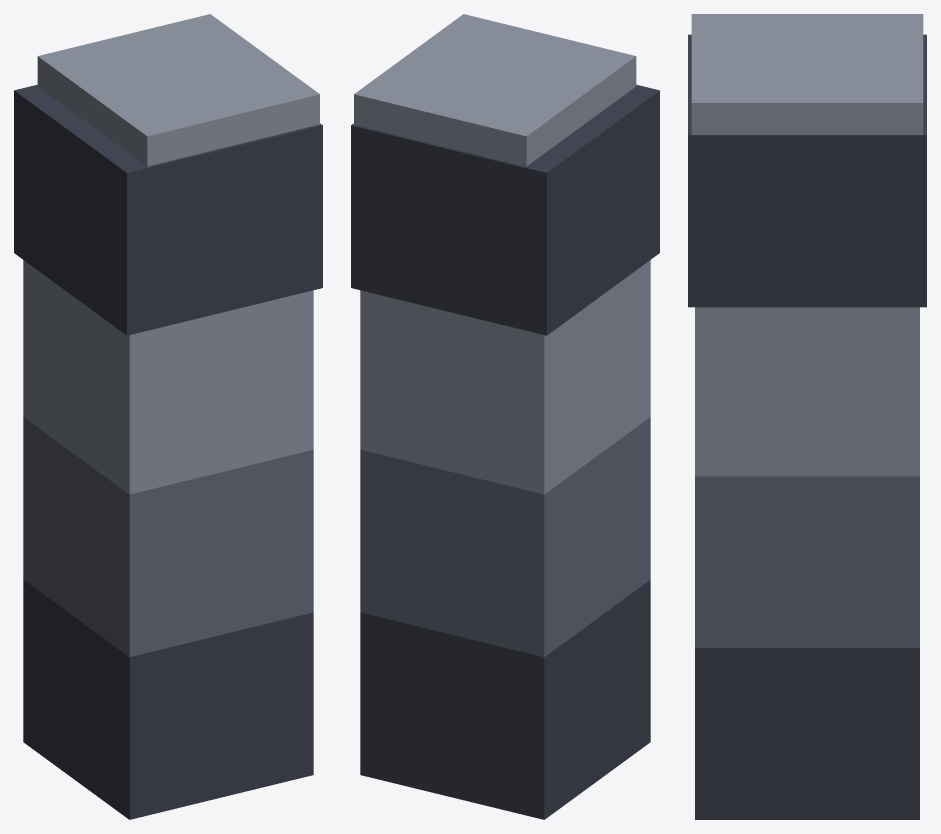
File: TW_STONE_POST_B_LOD0.glb
3 renders of one model, left to right at view 1: azimuth 30°, elevation 25°; view 2: azimuth 150°, elevation 25°; view 3: azimuth 270°, elevation 25°, orthographic. The views are drawn at different scales.
Visible parts, largest first — view 1: TW_STONE_POST_B_LOD0; view 2: TW_STONE_POST_B_LOD0; view 3: TW_STONE_POST_B_LOD0.
Part boxes in pixels (x1,y1,x2,y2): TW_STONE_POST_B_LOD0: (14, 14, 322, 819); TW_STONE_POST_B_LOD0: (351, 14, 659, 819); TW_STONE_POST_B_LOD0: (688, 14, 926, 819).
Bounding box in the file's own units: 0.34 × 1.13 × 0.34.
Materials: 1 (1 with a texture image).
